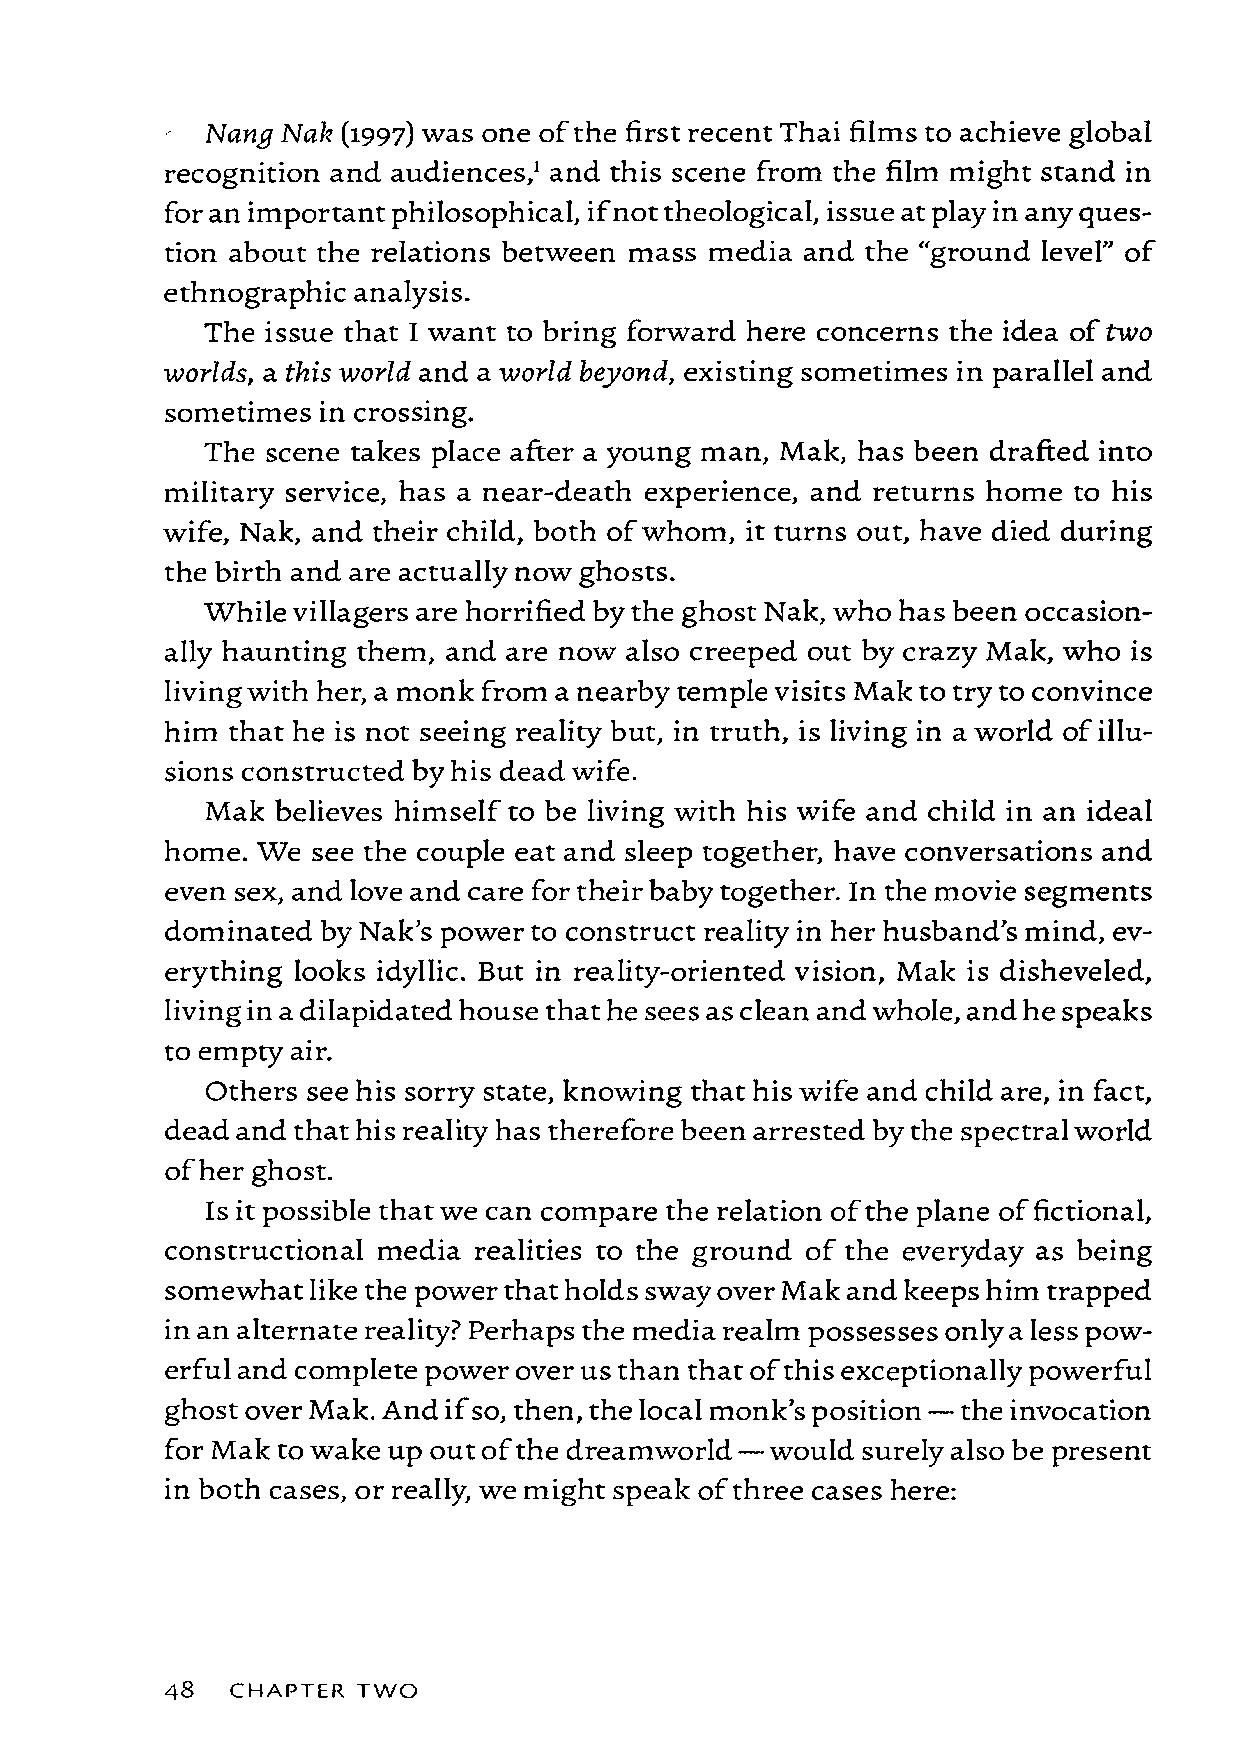content: (157, 111, 1155, 1503)
content_chapter: (221, 1678, 421, 1706)
content_pagenumber: (154, 1673, 200, 1703)
